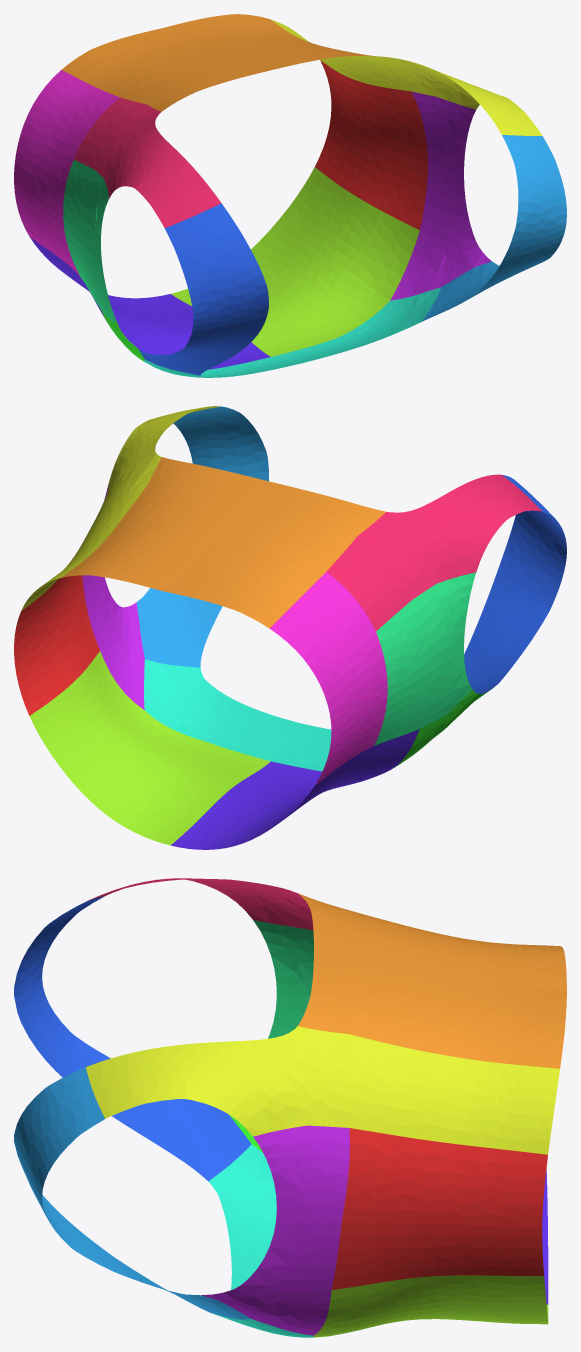
Rendered from lululemon_garmentB.obj.
The picture shows the model from 3 angles, top to bottom: view 1: azimuth 30°, elevation 25°; view 2: azimuth 150°, elevation 25°; view 3: azimuth 270°, elevation 25°; orthographic projection. The views are drawn at different scales.
Visible parts, largest first — view 1: lululemon_garmentB; view 2: lululemon_garmentB; view 3: lululemon_garmentB.
Boxes of the visible parts, left/top/right/bottom form: lululemon_garmentB: left=14, top=14, right=566, bottom=377; lululemon_garmentB: left=14, top=406, right=566, bottom=849; lululemon_garmentB: left=14, top=878, right=566, bottom=1337.
Size of the model in its own units: 753 by 557 by 787.
